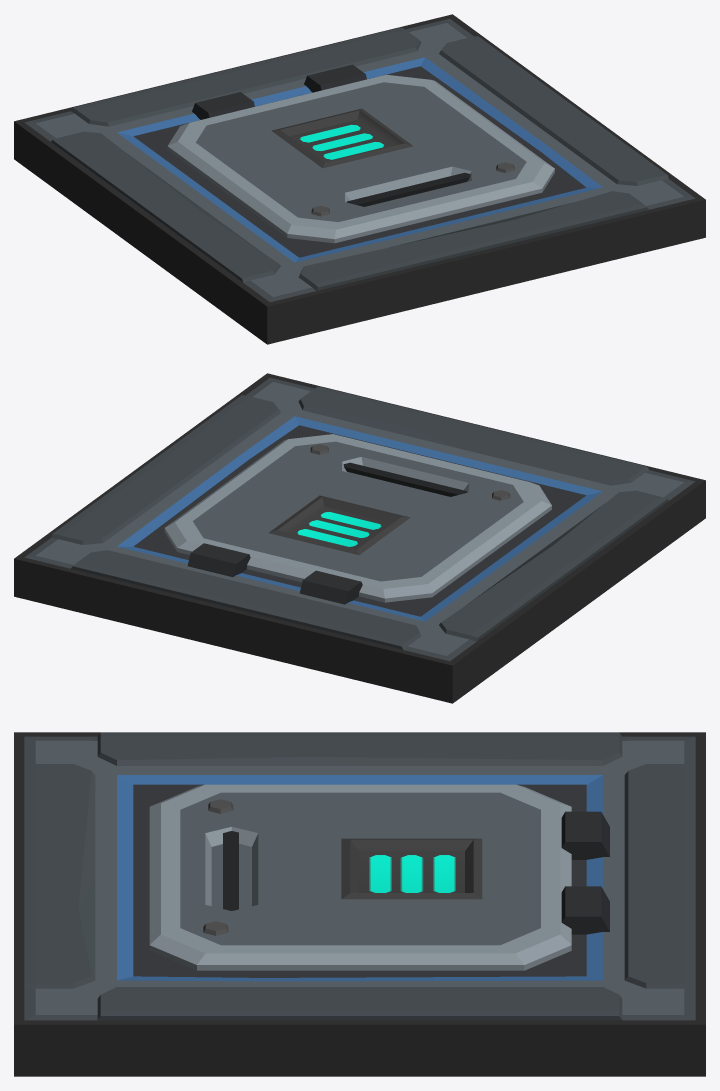
File: SM_Bld_Floor_Small_Hatch_01.fbx
The picture shows the model from 3 angles, top to bottom: view 1: azimuth 30°, elevation 25°; view 2: azimuth 150°, elevation 25°; view 3: azimuth 270°, elevation 25°; orthographic projection. The views are drawn at different scales.
Visible parts, largest first — view 1: SM_Bld_Floor_Small_Hatch_01, SM_Bld_Floor_Small_Hatch_Door_01; view 2: SM_Bld_Floor_Small_Hatch_01, SM_Bld_Floor_Small_Hatch_Door_01; view 3: SM_Bld_Floor_Small_Hatch_01, SM_Bld_Floor_Small_Hatch_Door_01.
Part boxes in pixels (x1,y1,x2,y2): SM_Bld_Floor_Small_Hatch_01: [14, 14, 705, 344]; SM_Bld_Floor_Small_Hatch_Door_01: [167, 74, 554, 243]; SM_Bld_Floor_Small_Hatch_01: [14, 373, 705, 703]; SM_Bld_Floor_Small_Hatch_Door_01: [164, 434, 551, 602]; SM_Bld_Floor_Small_Hatch_01: [14, 732, 705, 1076]; SM_Bld_Floor_Small_Hatch_Door_01: [149, 784, 571, 970].
Bounding box in the file's own units: 250 × 29.48 × 250.
Materials: 1 (1 with a texture image).
